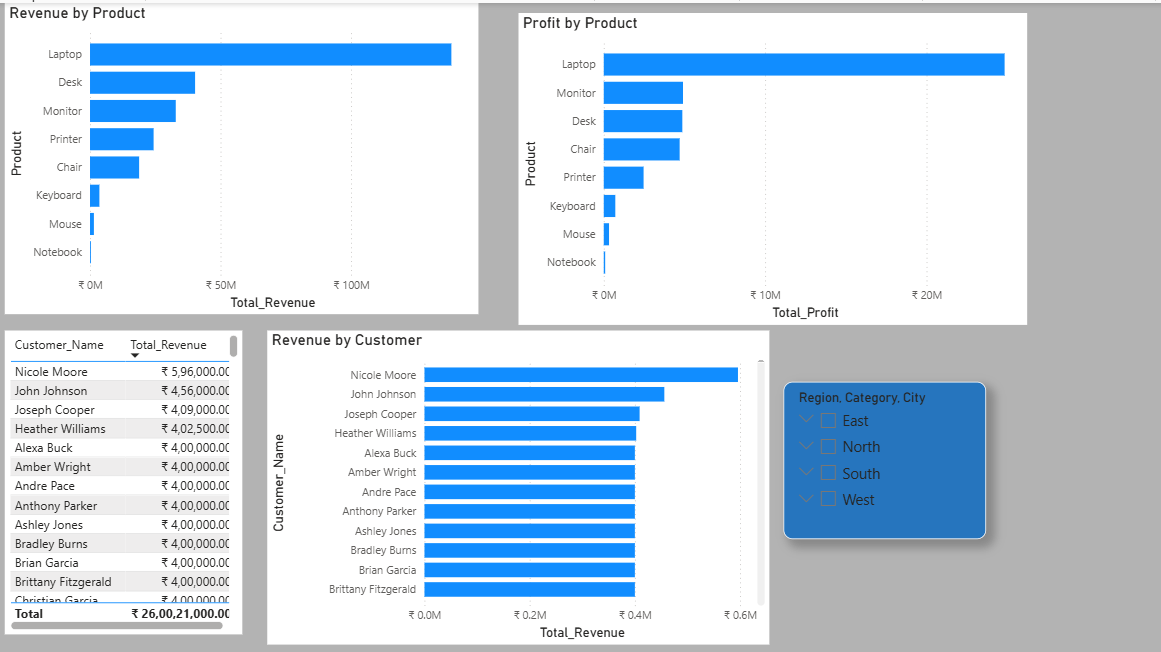

Layout of this report page (visuals, bound fields, positions):
{"tool":"powerbi","page":{"name":"Product Analysis","canvas":[1280,720],"ordinal":1},"visuals":[{"type":"barChart","title":"Revenue by Product","fields":{"Category":["sales_analytics_project_dataset.Product"],"Y":["sales_analytics_project_dataset.Total_Revenue"]},"box":[9.6,0,520.1,341.7],"z":0},{"type":"barChart","title":"Profit by Product","fields":{"Category":["sales_analytics_project_dataset.Product"],"Y":["sales_analytics_project_dataset.Total_Profit"]},"box":[573,11.4,558.8,342.1],"z":1000},{"type":"tableEx","fields":{"Values":["sales_analytics_project_dataset.Customer_Name","sales_analytics_project_dataset.Total_Revenue"]},"box":[9.6,359.5,260.7,333.4],"z":2000},{"type":"barChart","title":"Revenue by Customer","fields":{"Category":["sales_analytics_project_dataset.Customer_Name"],"Y":["sales_analytics_project_dataset.Total_Revenue"]},"box":[297.5,360,551.2,345],"z":3000},{"type":"slicer","fields":{"Values":["sales_analytics_project_dataset.Region","sales_analytics_project_dataset.Category","sales_analytics_project_dataset.City"]},"box":[865,416.2,222.5,172.5],"z":3001},{"type":"textbox","box":[1114,353,166,172],"z":3002}]}

Visuals, with their boxes in screenshot pixels (x1, y1, x2, y2), scaled from the page's 1280x720 canvas onto the 1161x652 screenshot:
"Revenue by Product" barChart: rect(9, 0, 480, 309)
"Profit by Product" barChart: rect(520, 10, 1027, 320)
tableEx - sales_analytics_project_dataset.Customer_Name x sales_analytics_project_dataset.Total_Revenue: rect(9, 326, 245, 627)
"Revenue by Customer" barChart: rect(270, 326, 770, 638)
slicer - sales_analytics_project_dataset.Region x sales_analytics_project_dataset.Category: rect(785, 377, 986, 533)
textbox: rect(1010, 320, 1160, 475)
